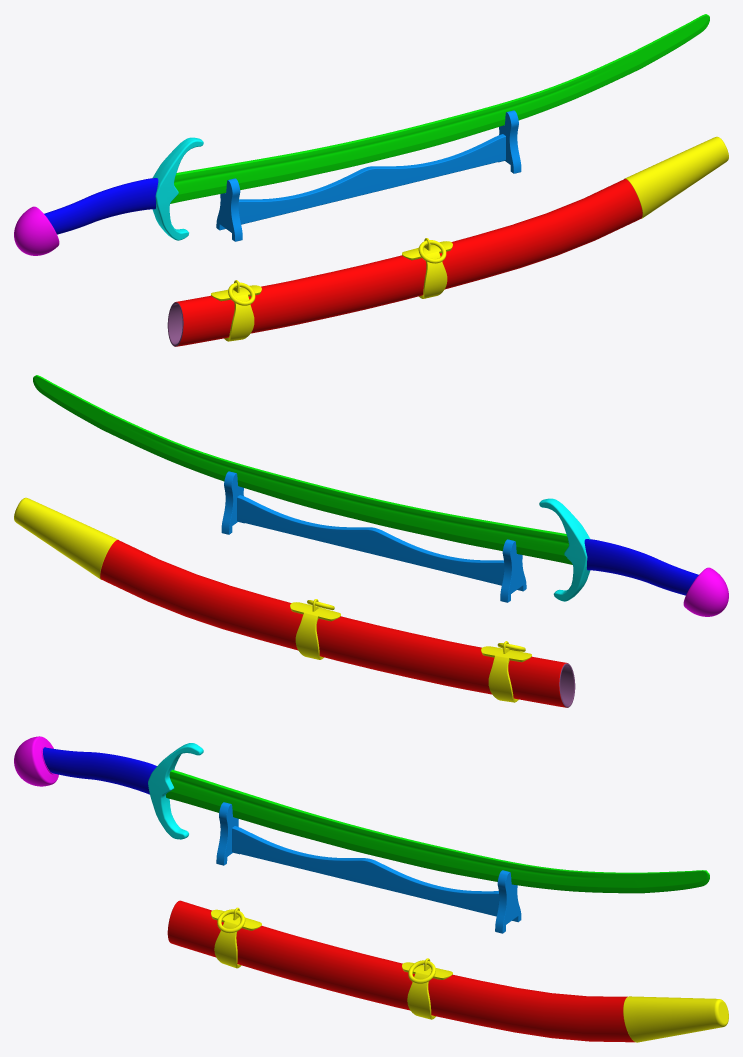
File: MongolSwordAndScabbard.fbx
The picture shows the model from 3 angles, top to bottom: view 1: azimuth 30°, elevation 25°; view 2: azimuth 150°, elevation 25°; view 3: azimuth 330°, elevation 25°; orthographic projection.
Visible parts, largest first — view 1: Mongol_Scabbard, Mongol_Sword, swordStand; view 2: Mongol_Scabbard, Mongol_Sword, swordStand; view 3: Mongol_Scabbard, Mongol_Sword, swordStand.
Part boxes in pixels (x1=…): Mongol_Scabbard: x1=167, y1=136, x2=728, y2=346; Mongol_Sword: x1=14, y1=14, x2=709, y2=255; swordStand: x1=216, y1=110, x2=521, y2=241; Mongol_Scabbard: x1=14, y1=497, x2=575, y2=707; Mongol_Sword: x1=33, y1=375, x2=728, y2=616; swordStand: x1=221, y1=471, x2=526, y2=602; Mongol_Scabbard: x1=167, y1=900, x2=728, y2=1042; Mongol_Sword: x1=14, y1=736, x2=709, y2=893; swordStand: x1=216, y1=802, x2=521, y2=933.
Size of the model in its own units: 91.78 by 26.56 by 4.9.
